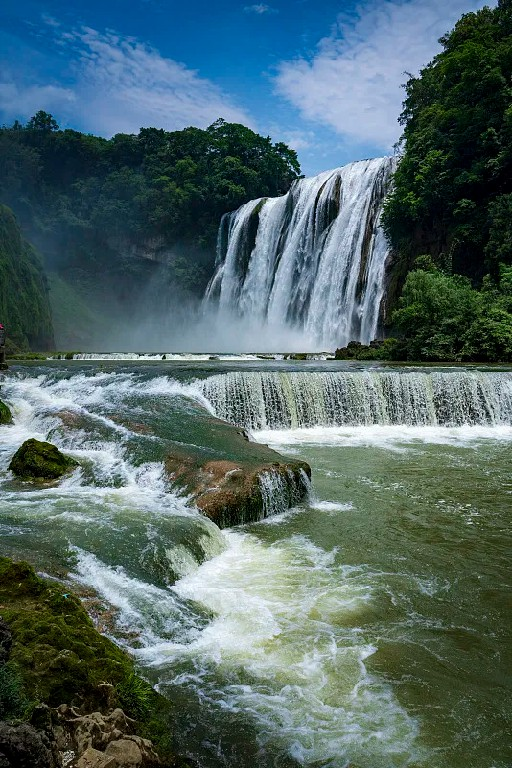Huangguoshu: (200, 154, 402, 352)
